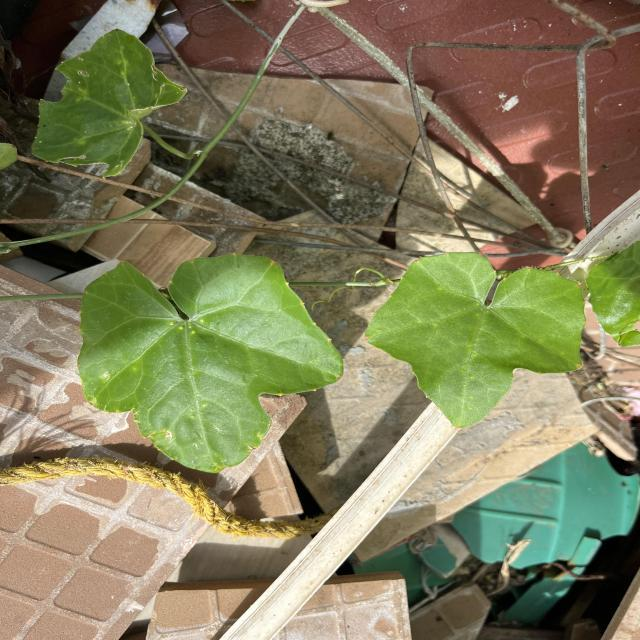Coccinia grandis: (76, 252, 346, 476), (363, 250, 589, 431)
